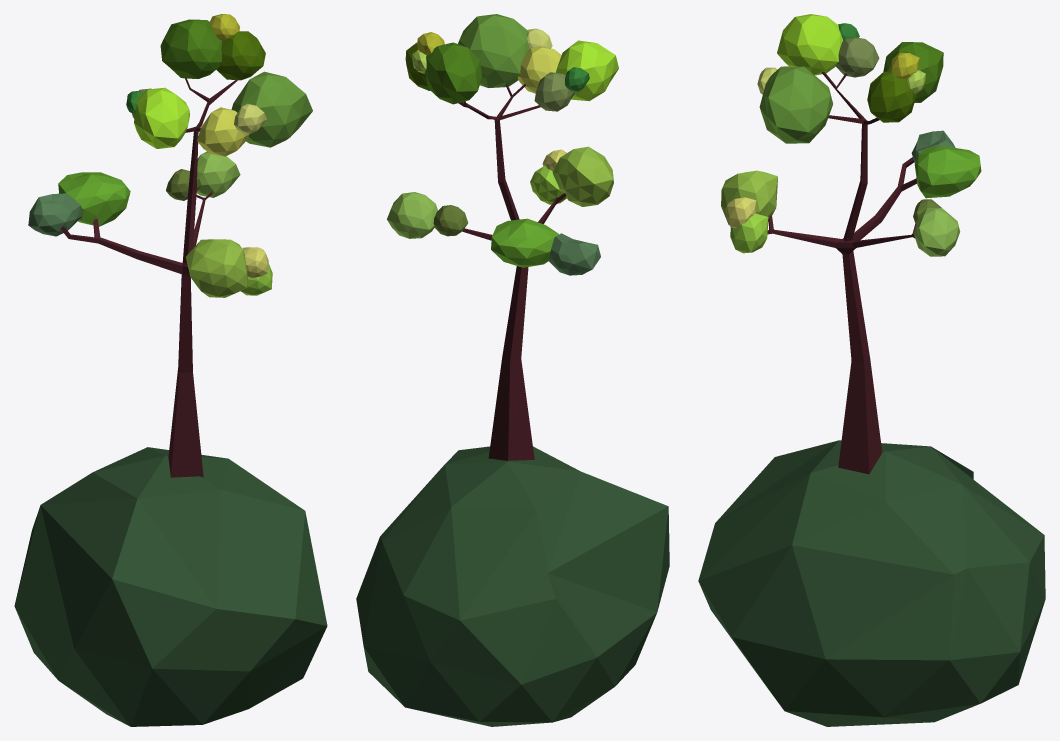
File: tree1_2.fbx
3 views of the same model, side by side, from view 1: azimuth 30°, elevation 25°; view 2: azimuth 150°, elevation 25°; view 3: azimuth 270°, elevation 25° (orthographic). The views are drawn at different scales.
Visible parts, largest first — view 1: Icosphere.017, Cube, Icosphere, Icosphere.015, Icosphere.006, Icosphere.005, Icosphere.010, Icosphere.007, Icosphere.011, Icosphere.001, Icosphere.012, Icosphere.002 (+4 smaller); view 2: Icosphere.017, Cube, Icosphere, Icosphere.006, Icosphere.015, Icosphere.010, Icosphere.005, Icosphere.012, Icosphere.011, Icosphere.001, Icosphere.004, Icosphere.013 (+1 smaller); view 3: Icosphere.017, Cube, Icosphere, Icosphere.005, Icosphere.010, Icosphere.007, Icosphere.015, Icosphere.012, Icosphere.006, Icosphere.004, Icosphere.014, Icosphere.016 (+2 smaller).
Part boxes in pixels (x1,y1,x2,y2): Icosphere.017: (14,447,327,726); Cube: (61,78,237,477); Icosphere: (231,71,312,147); Icosphere.015: (185,239,247,297); Icosphere.006: (160,19,221,78); Icosphere.005: (134,87,189,148); Icosphere.010: (58,172,130,226); Icosphere.007: (216,31,265,80); Icosphere.011: (28,193,82,236); Icosphere.001: (197,107,249,156); Icosphere.012: (190,151,240,197); Icosphere.002: (234,103,267,133); Icosphere.017: (356,446,669,726); Cube: (458,84,566,460); Icosphere: (458,14,529,87); Icosphere.006: (425,42,481,104); Icosphere.015: (552,146,613,206); Icosphere.010: (491,218,559,267); Icosphere.005: (556,40,618,101); Icosphere.012: (387,192,437,238); Icosphere.011: (548,233,600,275); Icosphere.001: (517,46,561,93); Icosphere.004: (534,72,574,111); Icosphere.013: (433,205,468,236); Icosphere.017: (698,440,1045,726); Cube: (767,71,916,474); Icosphere: (759,66,832,143); Icosphere.005: (777,14,843,75); Icosphere.010: (914,146,981,198); Icosphere.007: (867,71,916,122); Icosphere.015: (721,170,777,225); Icosphere.012: (913,208,960,256); Icosphere.006: (883,42,943,102); Icosphere.004: (835,37,879,77); Icosphere.014: (730,213,768,253); Icosphere.016: (726,197,756,227).
Size of the model in its own units: 306 by 812 by 370.
